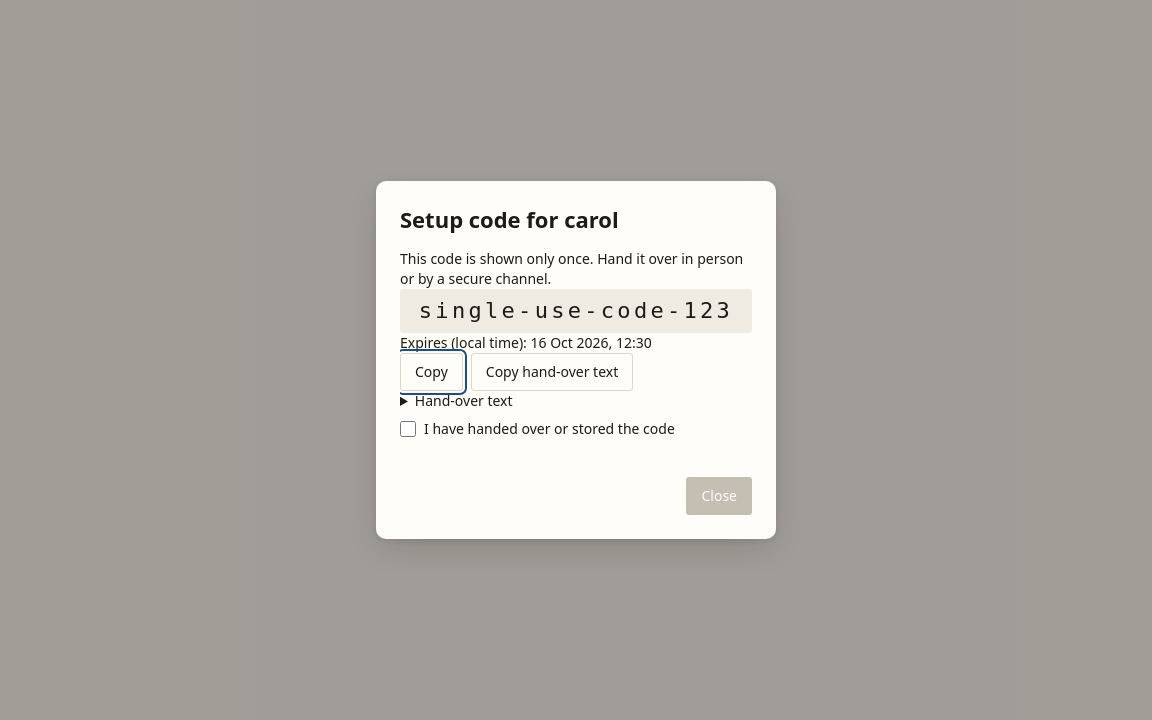
Test: one-time code dialog › copies a hand-over text with the login address, steps, username, code and expiry
Click the button "Copy hand-over text": click(552, 372) [471,353,633,391]
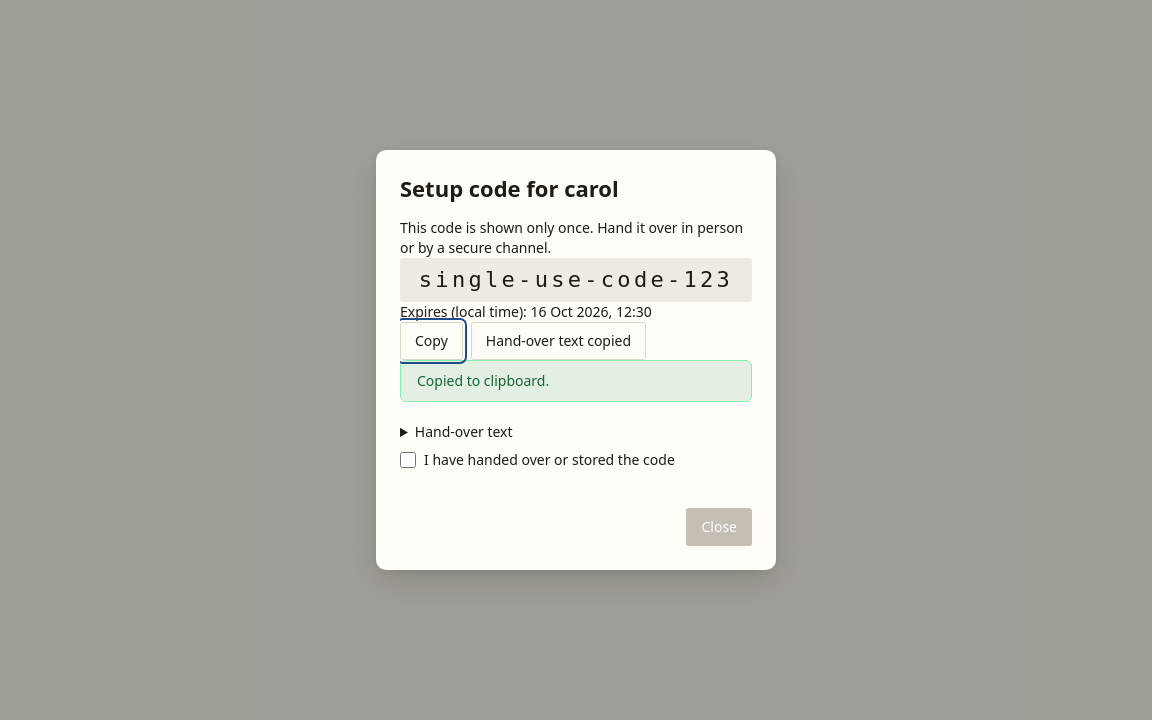
Expected: the button "Copy" is shown, [400,322,463,360]
Expected: the button "Hand-over text copied" is shown, [471,322,646,360]
